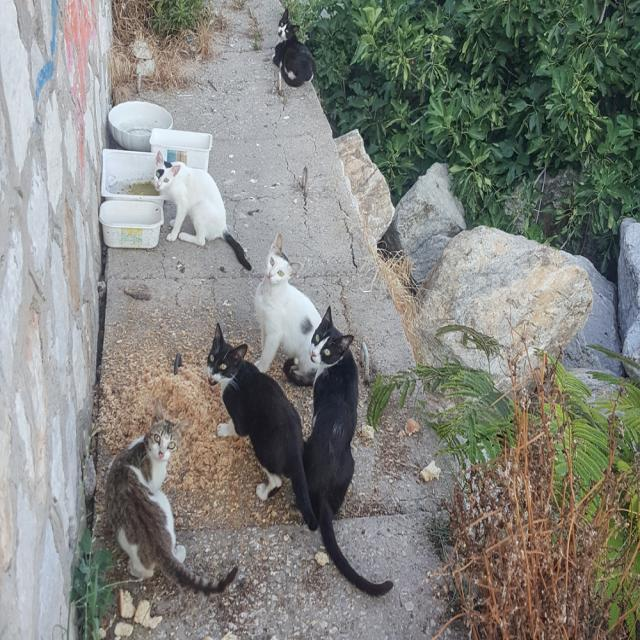cat: (105, 402, 238, 594), (304, 307, 392, 596), (206, 323, 318, 530), (155, 152, 251, 270), (255, 233, 321, 385), (272, 10, 316, 86)
